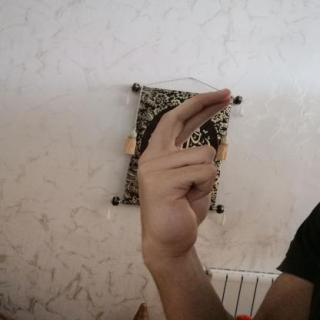ZAY: (124, 82, 243, 267)
